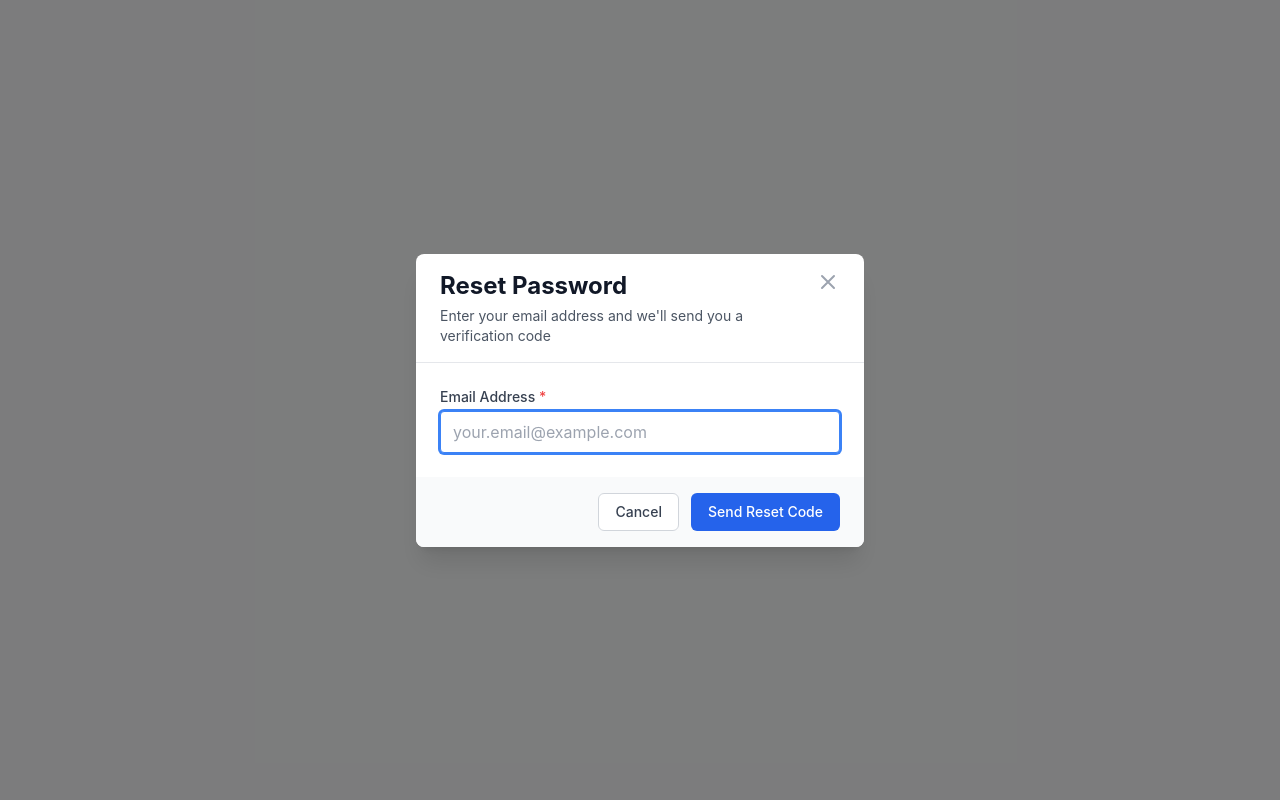
Test: PasswordResetForm › Step 1: Email Input › should validate empty email on submit
Click the button "Send Reset Code": (766, 512) [691,492,840,530]
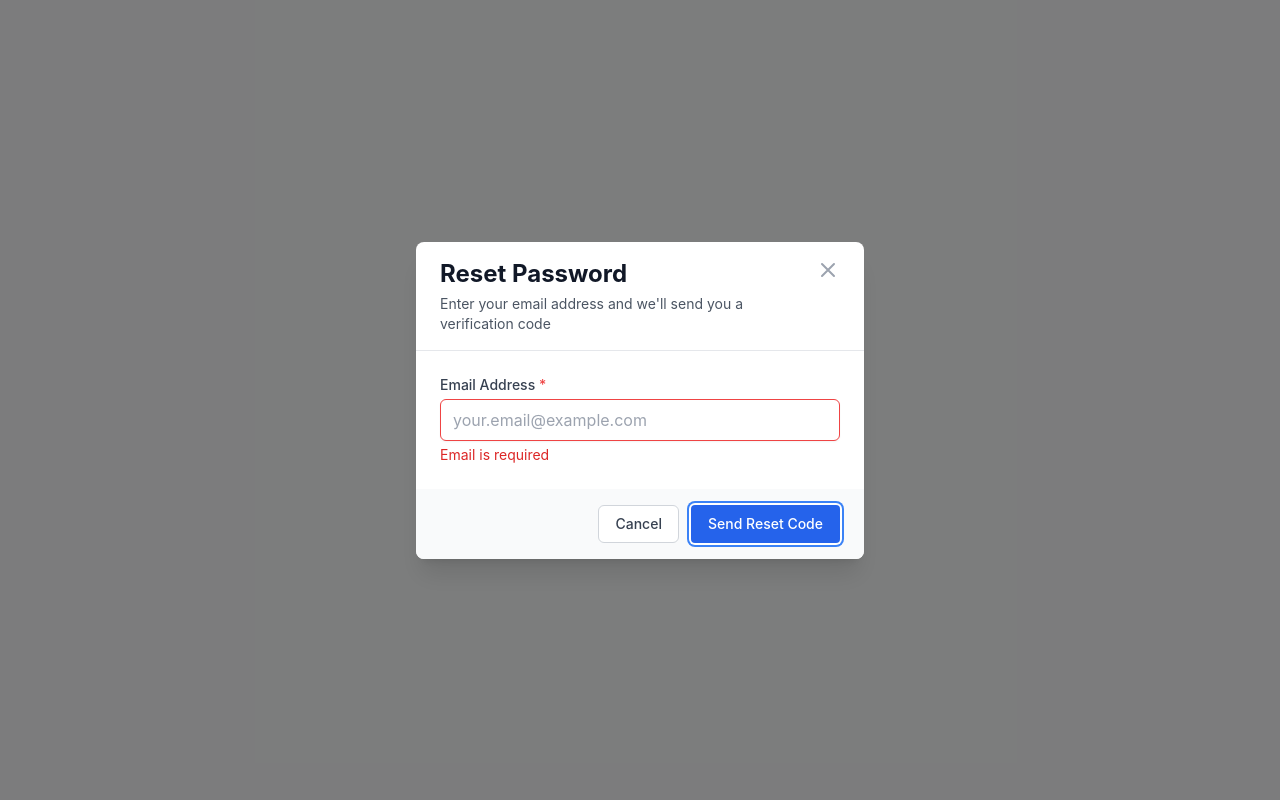
Result: the text "Email is required" is shown at [440,446,549,462]
